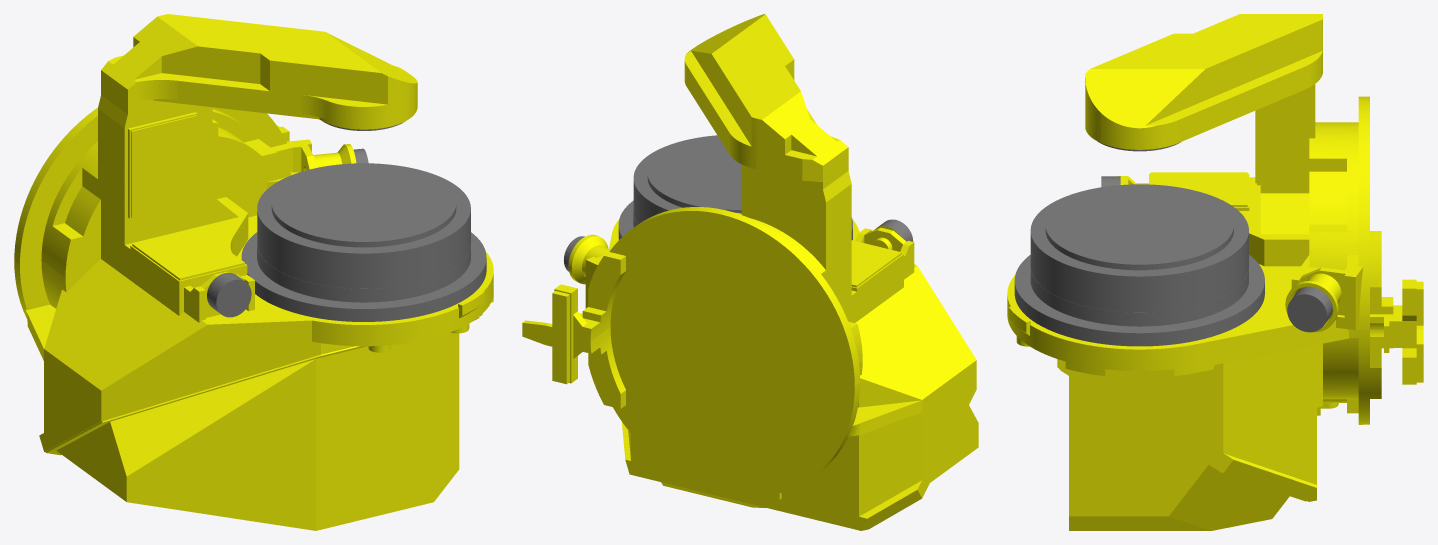
The picture shows the model from 3 angles, left to right: view 1: azimuth 30°, elevation 25°; view 2: azimuth 150°, elevation 25°; view 3: azimuth 270°, elevation 25°; orthographic projection. The views are drawn at different scales.
Parts seen in each view (by area): view 1: Mesh_0; view 2: Mesh_0; view 3: Mesh_0.
Part boxes in pixels (left/top/right/bottom): Mesh_0: left=14, top=14, right=493, bottom=530; Mesh_0: left=522, top=14, right=978, bottom=530; Mesh_0: left=1007, top=14, right=1423, bottom=530.
Size of the model in its own units: 0.566 by 0.6319 by 0.5405.
